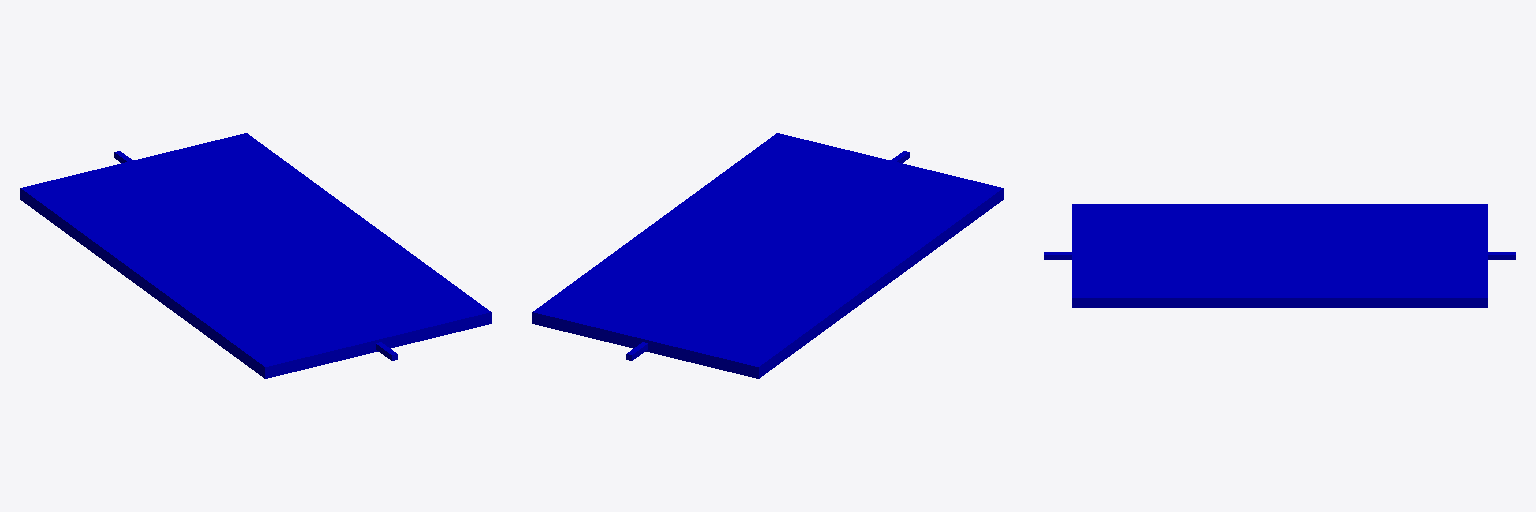
robot.urdf — cube:
<?xml version="1.0"?>
<robot name="cube">

<link name="base_link">

    <contact>
        <lateral_friction value="1.0"/>
    </contact>

    <visual>
      <origin rpy="0 0 0" xyz="0 0 0"/>
      <geometry>
        <box size="0.8 1.5 0.04"/>
      </geometry>
      <material name="blue">
        <color rgba="0 0 .8 1"/>
      </material>
    </visual>

    <collision>
      <origin rpy="0 0 0" xyz="0 0 0"/>
      <geometry>
        <box size="0.8 1.5 0.04"/>
      </geometry>
    </collision>

    <inertial>
      <mass value="0.05"/>
      <origin rpy="0 0 0" xyz="0 0 0"/>
      <inertia ixx="1e-3" ixy="0.0" ixz="0.0" iyy="1e-3" iyz="0.0" izz="1e-3"/>
    </inertial>

</link>

  <link name="link_1">

    <contact>
        <lateral_friction value="4.0"/>
    </contact>

    <visual>
      <origin rpy="0 0 0" xyz="0 0 0"/>
      <geometry>
        <box size="0.02 0.02 0.18"/>
      </geometry>
      <material name="blue">
        <color rgba="0 0 .8 1"/>
      </material>
    </visual>

    <collision>
      <origin rpy="0 0 0" xyz="0 0.76 0.06"/>
      <geometry>
        <box size="0.02 0.02 0.18"/>
      </geometry>
    </collision>

    <inertial>
      <mass value="0.01"/>
      <origin rpy="0 0 0" xyz="0 0 0"/>
      <inertia ixx="1e-3" ixy="0.0" ixz="0.0" iyy="1e-3" iyz="0.0" izz="1e-3"/>
    </inertial>

  </link>


  <link name="link_2">

    <contact>
        <lateral_friction value="4.0"/>
    </contact>

    <visual>
      <origin rpy="0 0 0" xyz="0 0 0"/>
      <geometry>
        <box size="0.02 0.02 0.18"/>
      </geometry>
      <material name="blue">
        <color rgba="0 0 .8 1"/>
      </material>
    </visual>

    <collision>
      <origin rpy="0 0 0" xyz="0 0 0"/>
      <geometry>
        <box size="0.02 0.02 0.18"/>
      </geometry>
    </collision>

    <inertial>
      <mass value="0.01"/>
      <origin rpy="0 0 0" xyz="0 0 0"/>
      <inertia ixx="1e-3" ixy="0.0" ixz="0.0" iyy="1e-3" iyz="0.0" izz="1e-3"/>
    </inertial>

  </link>

<joint name="joint_1" type="fixed">
    <origin rpy="1.57 0 0" xyz="0 0.76 0"/>
    <parent link="base_link"/>
    <child link="link_1"/>
    <axis xyz="0.0 0.0 0.0"/>
    <limit lower="0.0" upper="0.0" effort="0.0" velocity="0.0"/>
</joint>

<joint name="joint_2" type="fixed">
    <origin rpy="-1.57 0 0" xyz="0 -0.76 0"/>
    <parent link="base_link"/>
    <child link="link_2"/>
    <axis xyz="0.0 0.0 0.0"/>
    <limit lower="0.0" upper="0.0" effort="0.0" velocity="0.0"/>
</joint>

</robot>

--- Render facts (derived) ---
3 views of the same robot in one strip: view 1: azimuth 30°, elevation 25°; view 2: azimuth 150°, elevation 25°; view 3: azimuth 270°, elevation 25° (orthographic).
Model cube with 3 links and 2 joints (2 fixed), rooted at base_link, posed every joint at zero.
Links seen in each view (by area): view 1: base_link; view 2: base_link; view 3: base_link.
Link boxes in pixels (x1,y1,x2,y2): base_link: (20,133,491,378); base_link: (532,133,1003,378); base_link: (1072,204,1487,307).
Bounding box of the posed robot: 0.8 × 1.7 × 0.04 m (x, y, z).
Geometry: primitives only (box / cylinder / sphere), no mesh files.